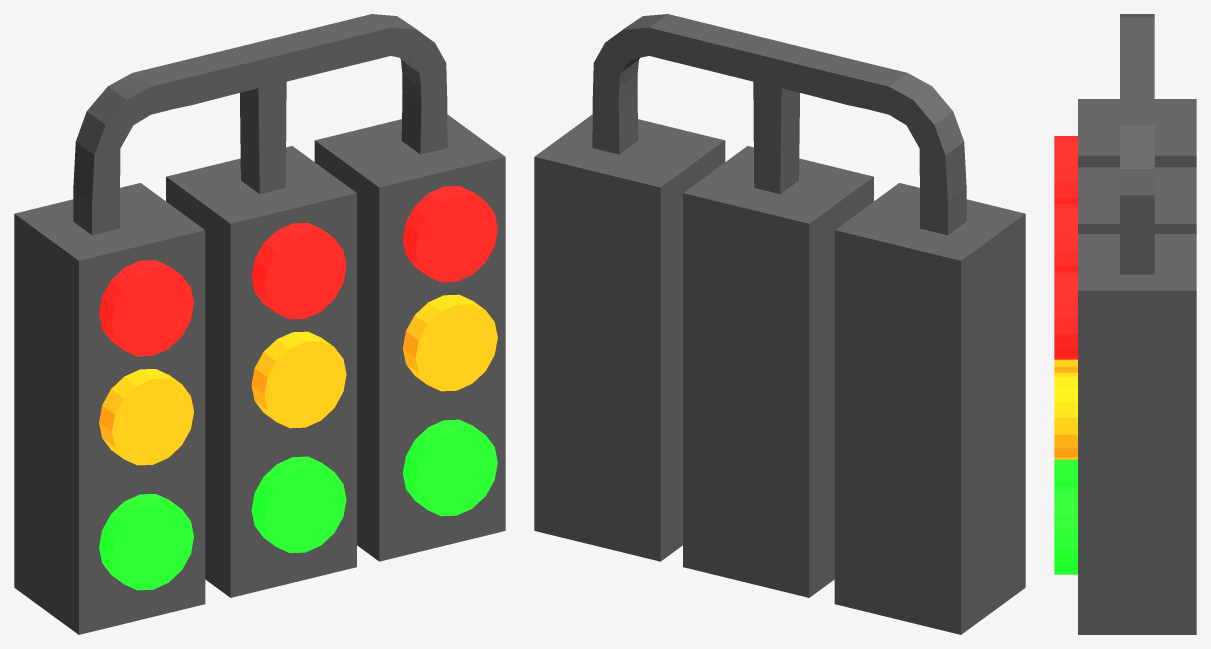
File: FeuTricolore.fbx
3 renders of one model, left to right at view 1: azimuth 30°, elevation 25°; view 2: azimuth 150°, elevation 25°; view 3: azimuth 270°, elevation 25°, orthographic. The views are drawn at different scales.
Parts seen in each view (by area): view 1: Cube, Cube.001, Cube.002, Cube.003, RedLeft, GreenLeft, RedRight, GreenRight, OrangeMid, RedMid, OrangeLeft, OrangeRight (+1 smaller); view 2: Cube, Cube.001, Cube.002, Cube.003; view 3: Cube.002, Cube.003, Cube, Cube.001, OrangeRight, GreenRight, RedRight, RedMid, RedLeft, GreenMid, OrangeMid.
Boxes of the visible parts, x1=… form: Cube: x1=14, y1=183, x2=205, y2=634; Cube.001: x1=166, y1=146, x2=356, y2=597; Cube.002: x1=314, y1=114, x2=505, y2=561; Cube.003: x1=73, y1=14, x2=447, y2=235; RedLeft: x1=99, y1=260, x2=193, y2=356; GreenLeft: x1=99, y1=493, x2=193, y2=590; RedRight: x1=402, y1=186, x2=497, y2=282; GreenRight: x1=402, y1=419, x2=497, y2=516; OrangeMid: x1=251, y1=331, x2=346, y2=428; RedMid: x1=251, y1=222, x2=346, y2=319; OrangeLeft: x1=99, y1=369, x2=193, y2=465; OrangeRight: x1=402, y1=294, x2=497, y2=391; Cube: x1=834, y1=183, x2=1025, y2=634; Cube.001: x1=683, y1=146, x2=873, y2=597; Cube.002: x1=534, y1=114, x2=725, y2=561; Cube.003: x1=592, y1=14, x2=966, y2=235; Cube.002: x1=1078, y1=234, x2=1196, y2=634; Cube.003: x1=1120, y1=14, x2=1154, y2=274; Cube: x1=1078, y1=99, x2=1196, y2=167; Cube.001: x1=1078, y1=167, x2=1196, y2=233; OrangeRight: x1=1054, y1=372, x2=1077, y2=459; GreenRight: x1=1054, y1=487, x2=1077, y2=574; RedRight: x1=1054, y1=272, x2=1077, y2=359; RedMid: x1=1054, y1=204, x2=1077, y2=272; RedLeft: x1=1054, y1=136, x2=1077, y2=204; GreenMid: x1=1054, y1=459, x2=1077, y2=487; OrangeMid: x1=1054, y1=359, x2=1077, y2=372.
Bounding box in the file's own units: 341 × 389 × 107.
